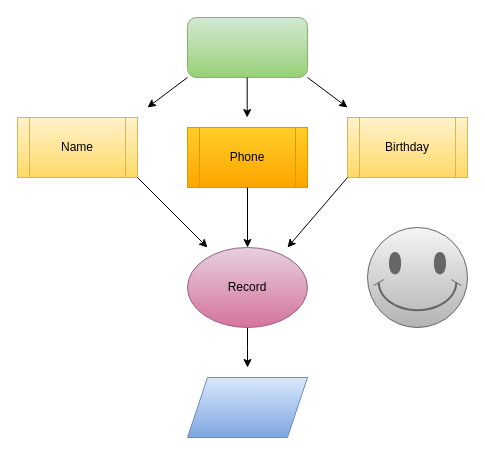
Image size: 485x455. Some labels were removed from this diagram. Each missing label, with the centre of its shape:
"AddressBook" goes at pixel 247 407.
"Class Field" goes at pixel 247 47.
